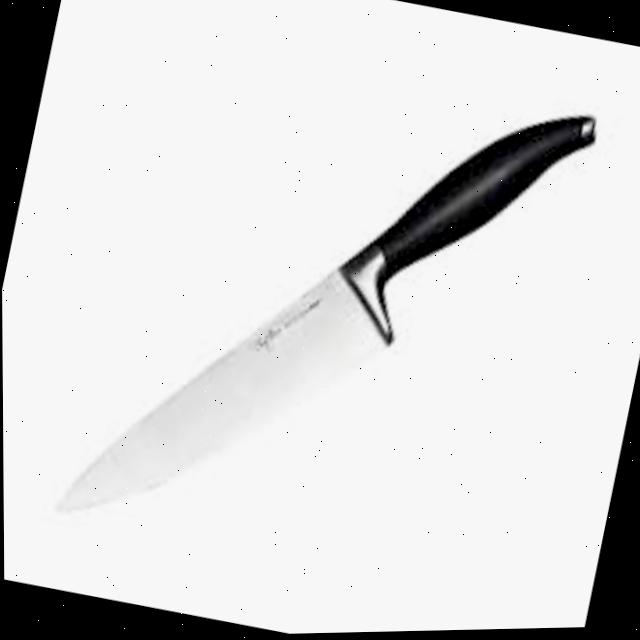Knife: (48, 21, 602, 607)
